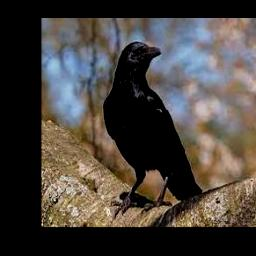Crow: (103, 42, 202, 215)
